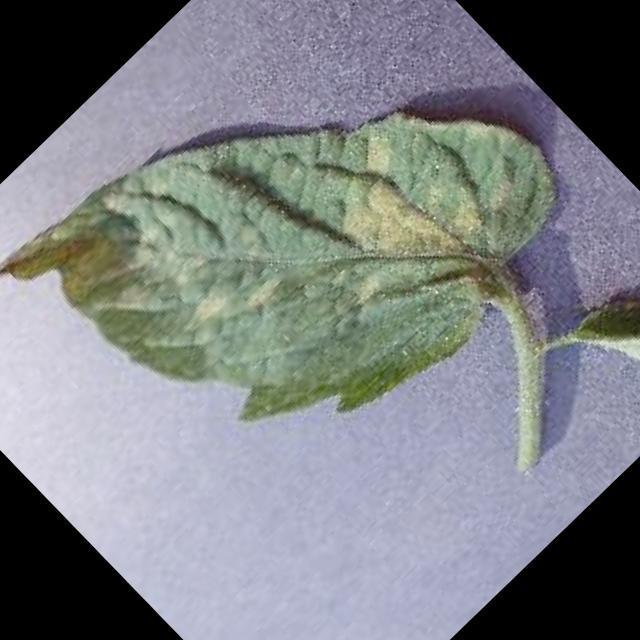Tomato mold leaf: (0, 0, 605, 566)
